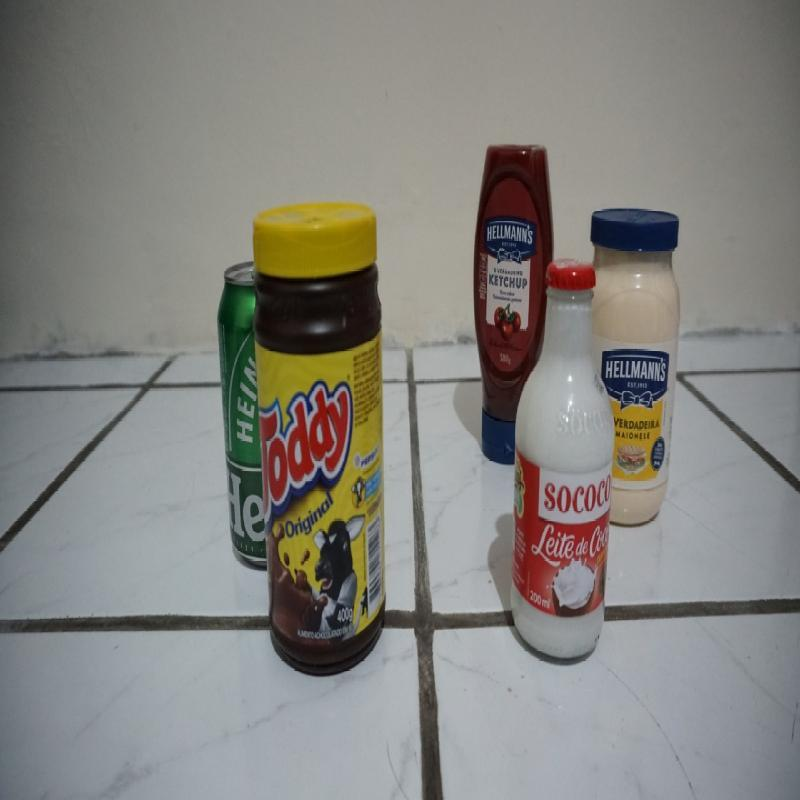Beer can: (215, 261, 259, 568)
Chocolate Powder: (256, 206, 391, 667)
Coconut Milk: (516, 251, 613, 659)
Ketchup: (472, 134, 514, 472)
Mayonnaise: (617, 187, 687, 542)
